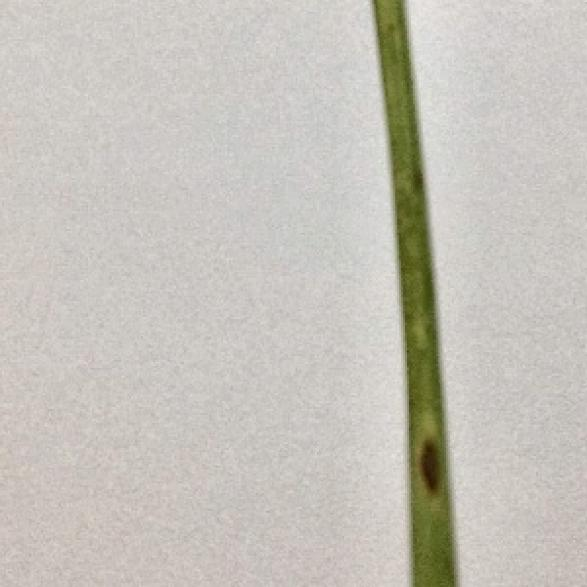Leaf_smut: (409, 428, 452, 501)
